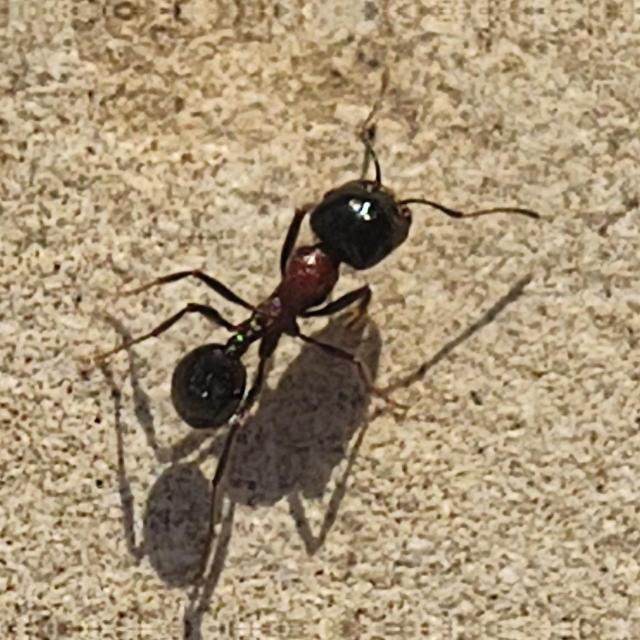Messor: (146, 130, 454, 463)
